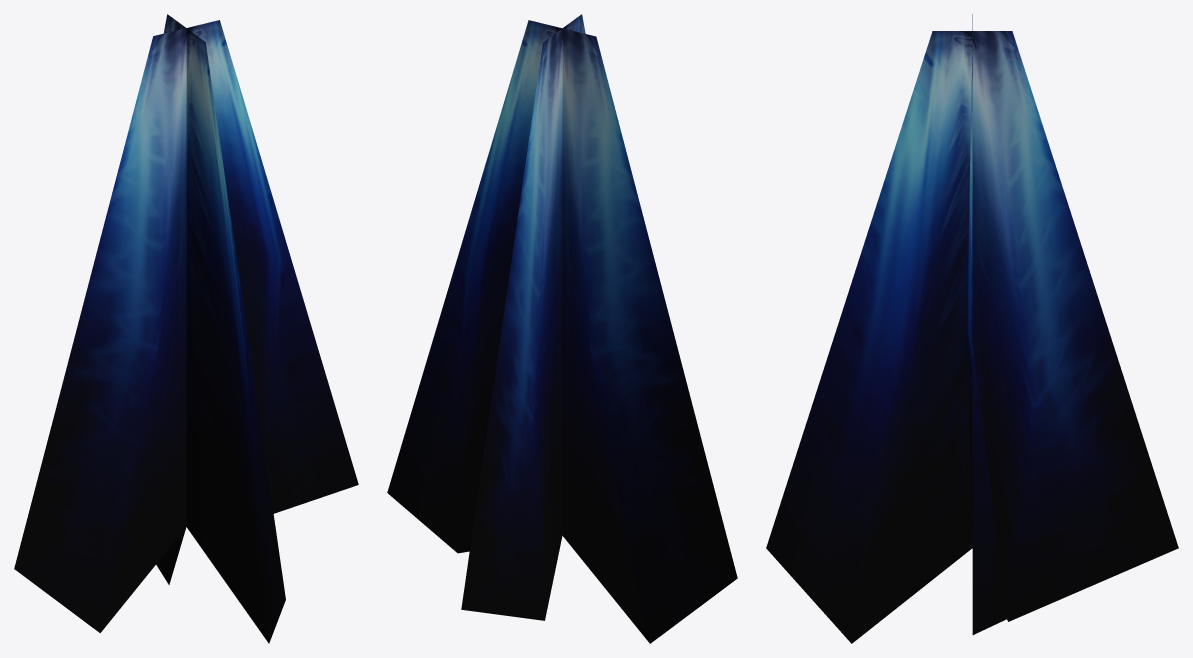
File: JiJia_JiDi02WenLi.FBX
3 views of the same model, side by side, from view 1: azimuth 30°, elevation 25°; view 2: azimuth 150°, elevation 25°; view 3: azimuth 270°, elevation 25° (orthographic). The views are drawn at different scales.
Visible parts, largest first — view 1: Plane003; view 2: Plane003; view 3: Plane003.
Boxes of the visible parts, x1,y1,x2,y2 form: Plane003: [14, 14, 358, 643]; Plane003: [387, 14, 737, 643]; Plane003: [766, 14, 1178, 643].
Size of the model in its own units: 43.42 by 70.33 by 43.42.
